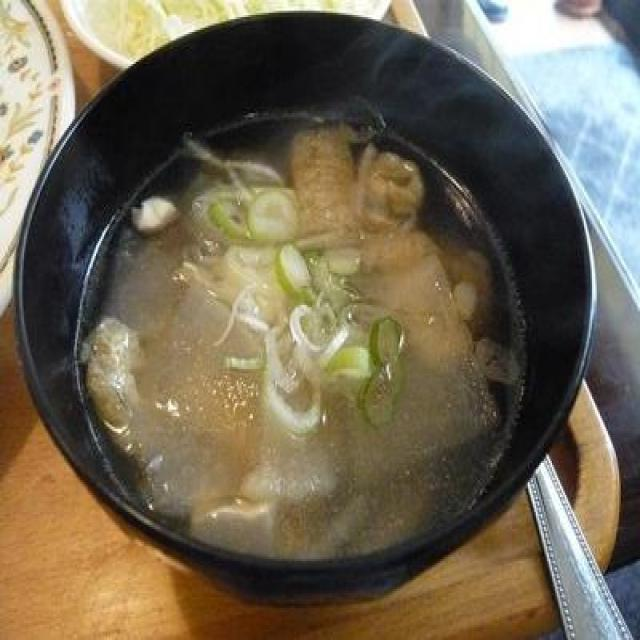蔬菜料理: (0, 0, 584, 608)
